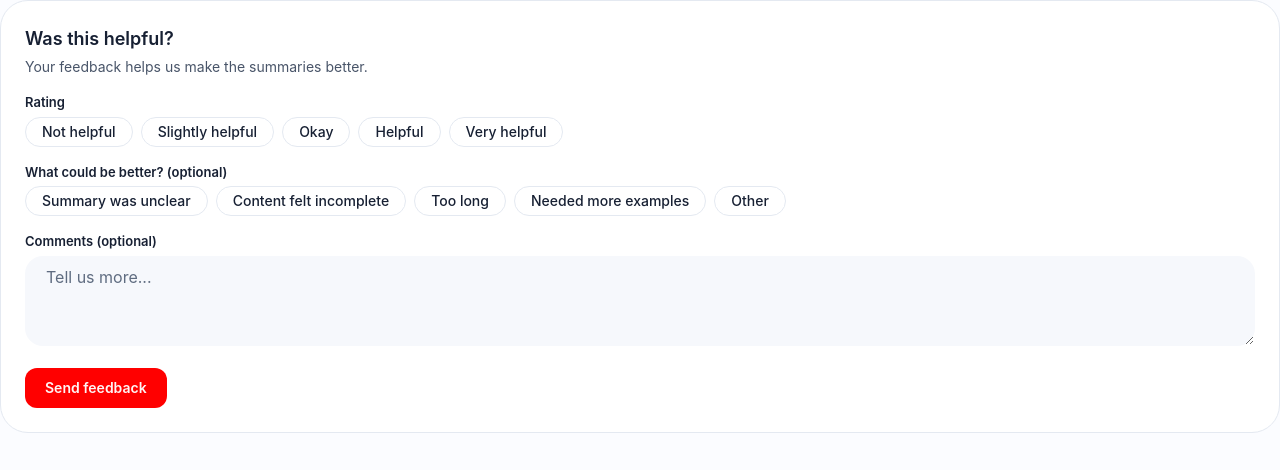
Scenario: FeedbackForm › shows a validation error when submitting without a rating
This screenshot has width=1280, height=470.
What coordinates should you click on to do the following:
click the button "Send feedback"
I would click on:
 (96, 388)
Its box is top-left (25, 368), bottom-right (167, 408).
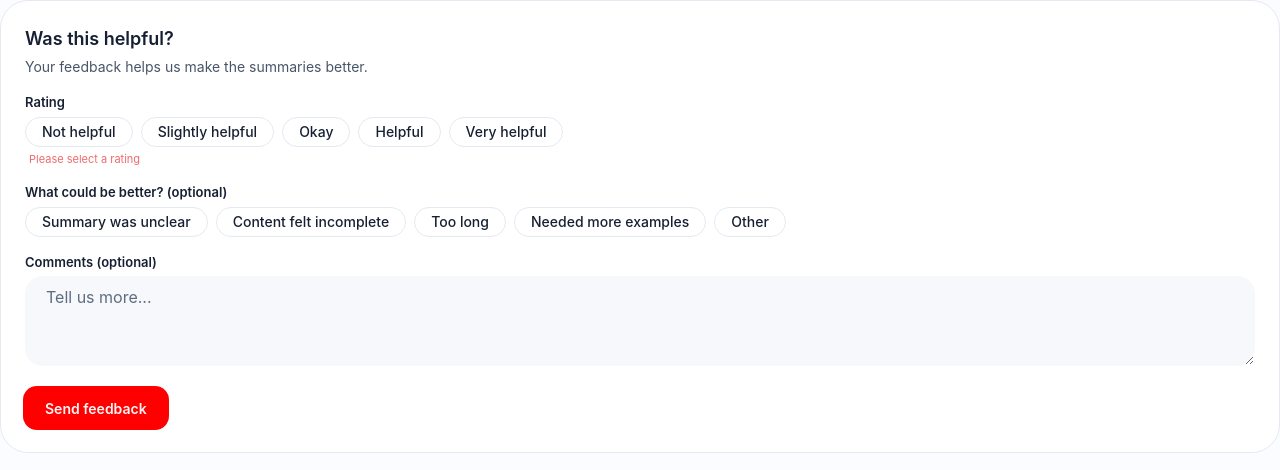
Check: the text "Please select a rating" is shown, box top-left (29, 152), bottom-right (140, 166)
